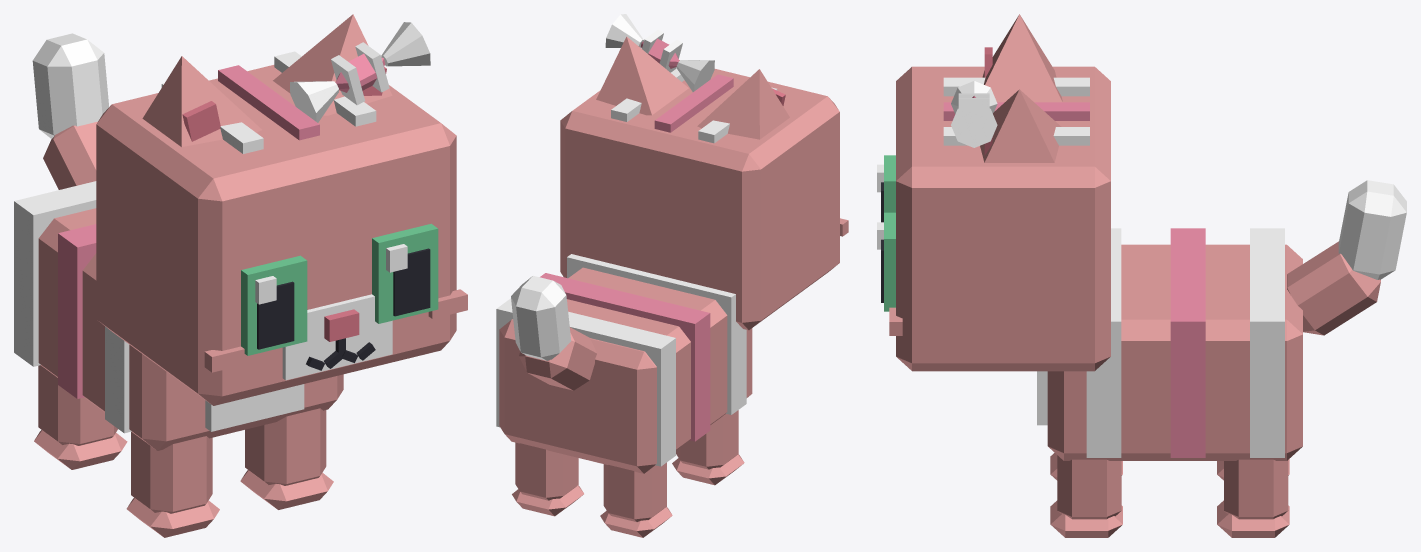
Rendered from CatCafe_Cat_Taffy.fbx.
3 views of the same model, side by side, from view 1: azimuth 30°, elevation 25°; view 2: azimuth 150°, elevation 25°; view 3: azimuth 270°, elevation 25° (orthographic). The views are drawn at different scales.
Parts seen in each view (by area): view 1: CatCafe_Cat_Taffy_Head, CatCafe_Cat_Taffy_Body, CatCafe_Cat_Taffy_Tail, CatCafe_Cat_Taffy_LegF2, CatCafe_Cat_Taffy_LegF1, CatCafe_Cat_Taffy_Eye2, CatCafe_Cat_Taffy_Eye1, CatCafe_Cat_Taffy_LegB2, CatCafe_Cat_Taffy_EarR, CatCafe_Cat_Taffy_Prop, CatCafe_Cat_Taffy_EarL; view 2: CatCafe_Cat_Taffy_Head, CatCafe_Cat_Taffy_Body, CatCafe_Cat_Taffy_Tail, CatCafe_Cat_Taffy_LegB2, CatCafe_Cat_Taffy_LegB1, CatCafe_Cat_Taffy_EarL, CatCafe_Cat_Taffy_EarR, CatCafe_Cat_Taffy_LegF2, CatCafe_Cat_Taffy_Prop; view 3: CatCafe_Cat_Taffy_Head, CatCafe_Cat_Taffy_Body, CatCafe_Cat_Taffy_Tail, CatCafe_Cat_Taffy_LegF1, CatCafe_Cat_Taffy_LegB1, CatCafe_Cat_Taffy_EarR, CatCafe_Cat_Taffy_EarL, CatCafe_Cat_Taffy_Prop, CatCafe_Cat_Taffy_Eye1, CatCafe_Cat_Taffy_Eye2.
Part boxes in pixels (bbox=[...]): CatCafe_Cat_Taffy_Head: bbox=[96, 51, 467, 405]; CatCafe_Cat_Taffy_Body: bbox=[14, 181, 343, 450]; CatCafe_Cat_Taffy_Tail: bbox=[32, 33, 109, 189]; CatCafe_Cat_Taffy_LegF2: bbox=[126, 432, 219, 537]; CatCafe_Cat_Taffy_LegF1: bbox=[240, 408, 333, 509]; CatCafe_Cat_Taffy_Eye2: bbox=[241, 255, 307, 355]; CatCafe_Cat_Taffy_Eye1: bbox=[372, 223, 438, 323]; CatCafe_Cat_Taffy_LegB2: bbox=[34, 365, 127, 469]; CatCafe_Cat_Taffy_EarR: bbox=[142, 56, 261, 146]; CatCafe_Cat_Taffy_Prop: bbox=[290, 22, 430, 122]; CatCafe_Cat_Taffy_EarL: bbox=[273, 14, 392, 115]; CatCafe_Cat_Taffy_Head: bbox=[560, 60, 848, 330]; CatCafe_Cat_Taffy_Body: bbox=[496, 254, 752, 473]; CatCafe_Cat_Taffy_Tail: bbox=[511, 275, 596, 390]; CatCafe_Cat_Taffy_LegB2: bbox=[600, 462, 672, 537]; CatCafe_Cat_Taffy_LegB1: bbox=[512, 442, 583, 516]; CatCafe_Cat_Taffy_EarL: bbox=[596, 36, 688, 115]; CatCafe_Cat_Taffy_EarR: bbox=[697, 69, 789, 139]; CatCafe_Cat_Taffy_LegF2: bbox=[672, 410, 744, 485]; CatCafe_Cat_Taffy_Prop: bbox=[605, 14, 714, 91]; CatCafe_Cat_Taffy_Head: bbox=[889, 66, 1110, 371]; CatCafe_Cat_Taffy_Body: bbox=[1037, 228, 1302, 460]; CatCafe_Cat_Taffy_Tail: bbox=[1287, 180, 1406, 335]; CatCafe_Cat_Taffy_LegF1: bbox=[1050, 455, 1122, 537]; CatCafe_Cat_Taffy_LegB1: bbox=[1217, 459, 1289, 537]; CatCafe_Cat_Taffy_EarR: bbox=[982, 14, 1062, 102]; CatCafe_Cat_Taffy_EarL: bbox=[980, 89, 1061, 162]; CatCafe_Cat_Taffy_Prop: bbox=[951, 81, 997, 147]; CatCafe_Cat_Taffy_Eye1: bbox=[877, 212, 895, 311]; CatCafe_Cat_Taffy_Eye2: bbox=[877, 155, 895, 222].
Size of the model in its own units: 1 by 1.86 by 1.97.
1 material, 1 textured.
